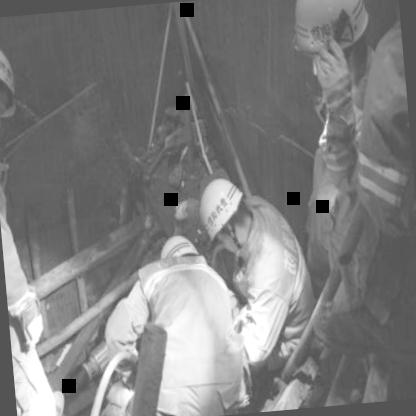helmet: (293, 0, 374, 92), (194, 167, 260, 268), (0, 18, 30, 161), (154, 228, 208, 279)
